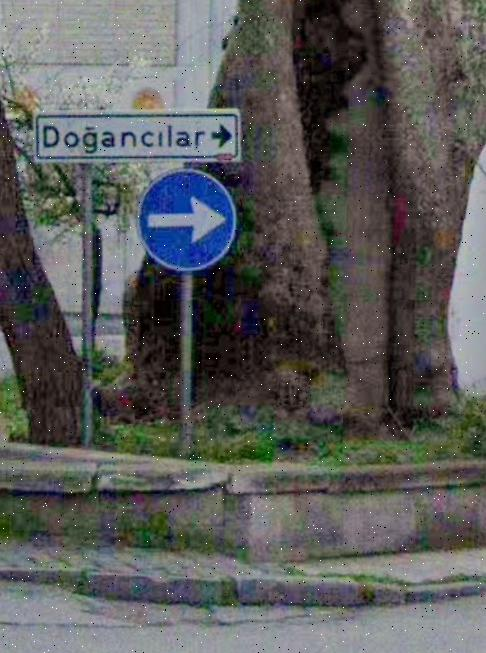turnright: (141, 170, 235, 269)
